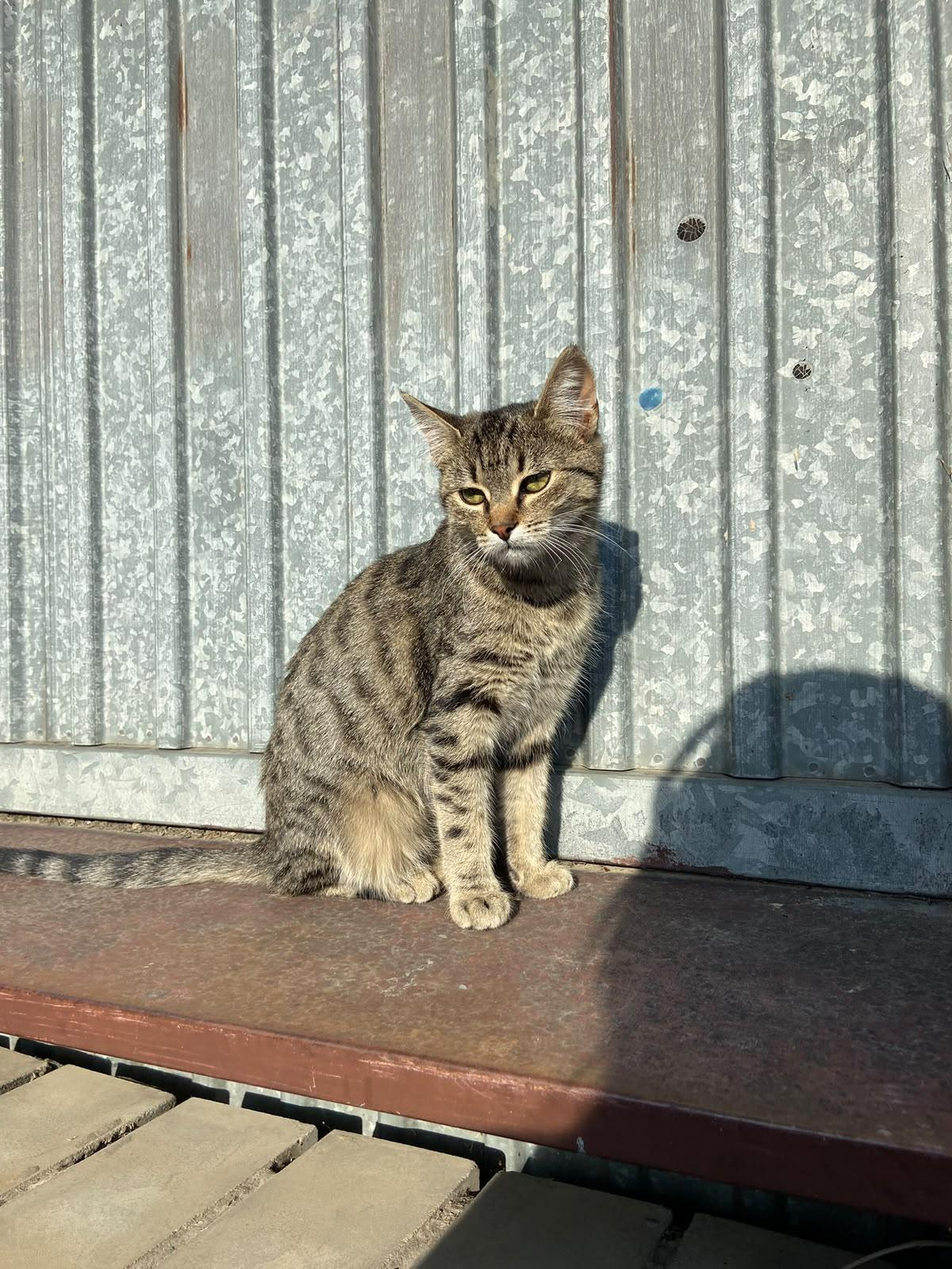macka: (0, 343, 606, 926)
